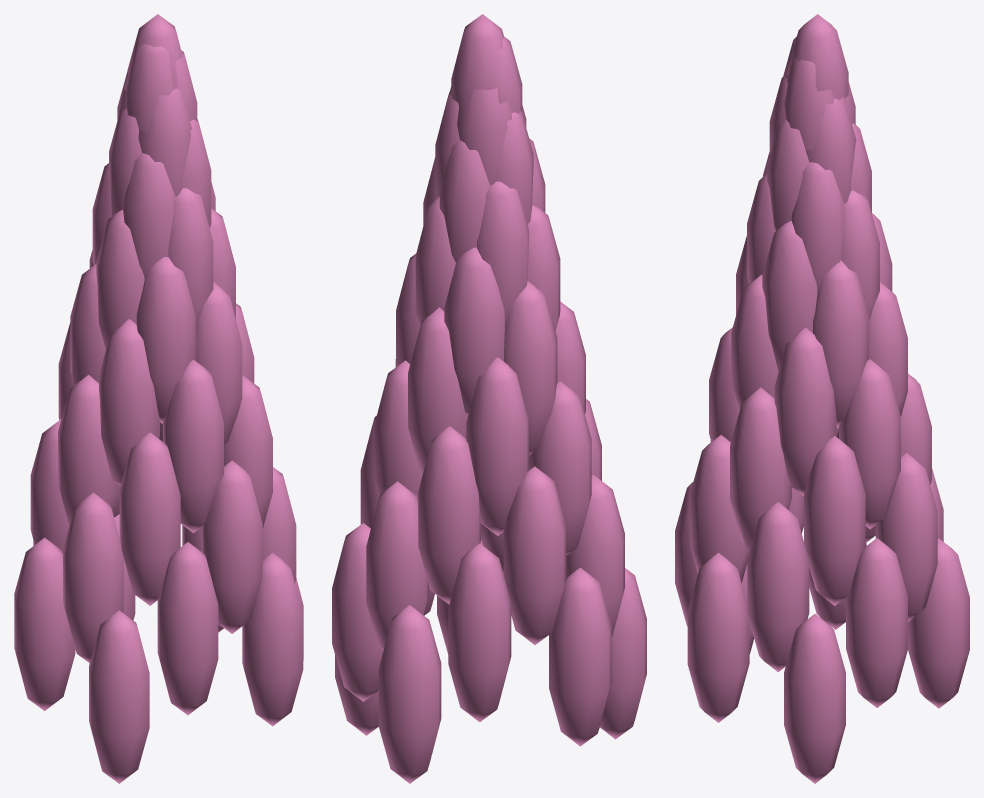
The model's file is flower-plume.glb.
The picture shows the model from 3 angles, left to right: view 1: azimuth 30°, elevation 25°; view 2: azimuth 150°, elevation 25°; view 3: azimuth 270°, elevation 25°; orthographic projection. The views are drawn at different scales.
Visible parts, largest first — view 1: tint-surface; view 2: tint-surface; view 3: tint-surface.
Part boxes in pixels (left/top/right/bottom): tint-surface: left=14, top=14, right=303, bottom=783; tint-surface: left=332, top=14, right=646, bottom=783; tint-surface: left=675, top=14, right=969, bottom=783.
Bounding box in the file's own units: 0.4271 × 1.09 × 0.4076.
